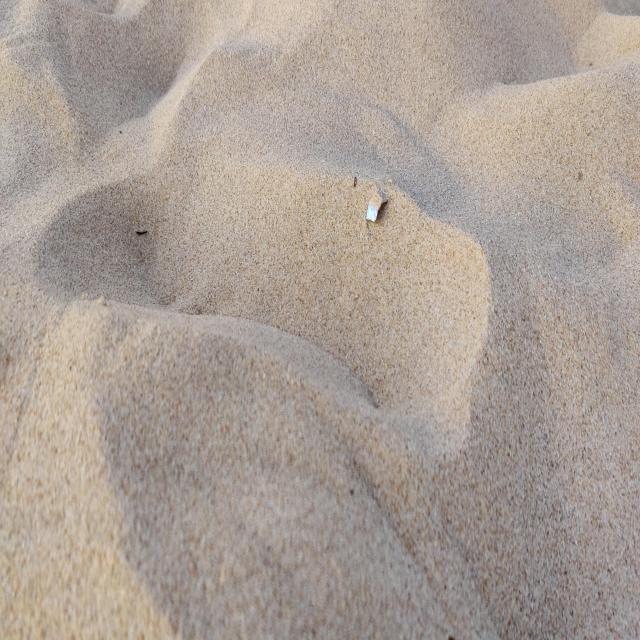litter: (366, 192, 388, 222)
